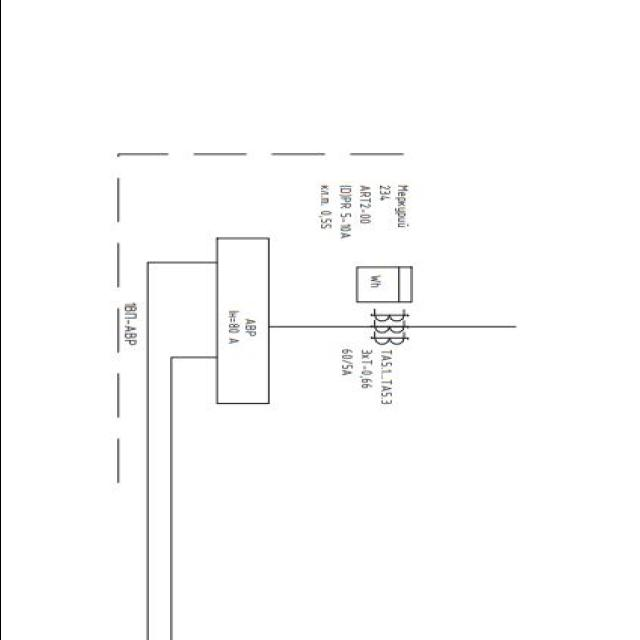-: (312, 183, 410, 242), (337, 347, 375, 392), (120, 301, 138, 349)
AVR: (214, 235, 272, 405)
TT: (368, 308, 410, 347)
WH: (350, 264, 414, 304)
